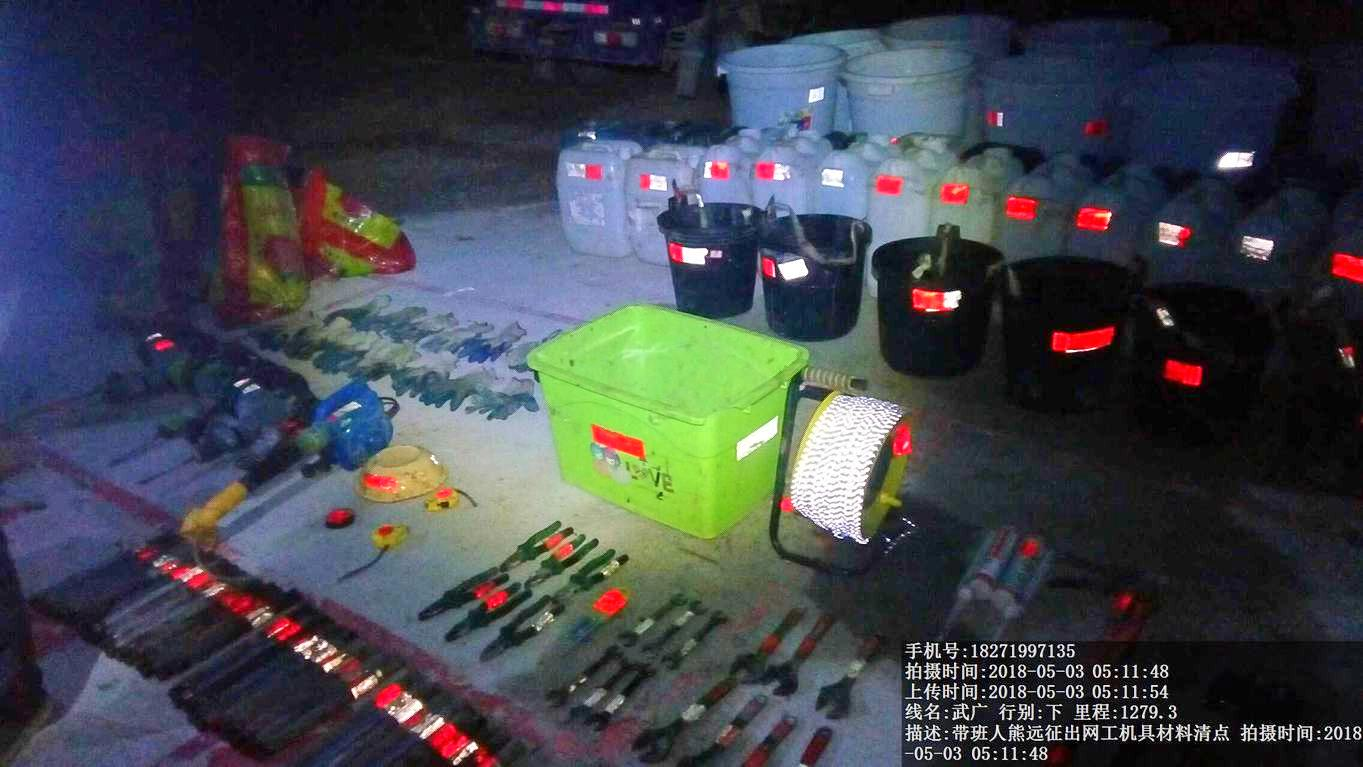GFJ: (181, 392, 395, 532)
T: (530, 304, 792, 542)
